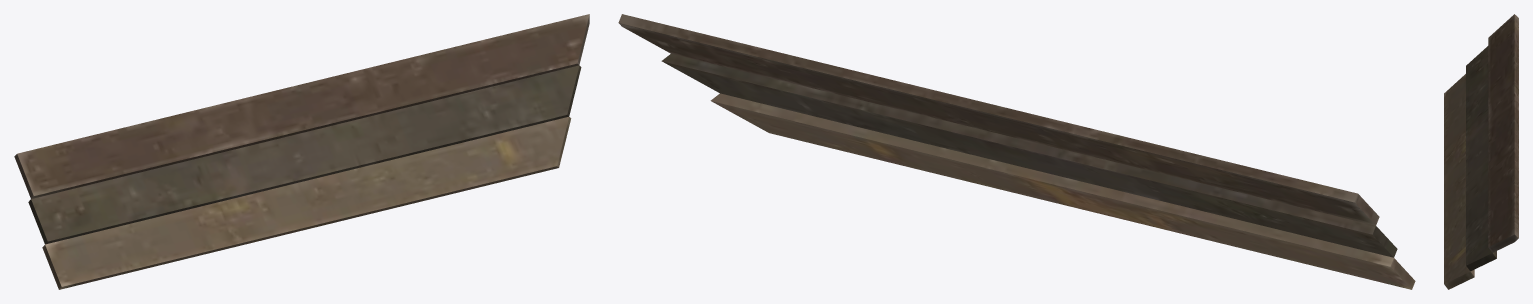
Rendered from roof.frontier.corner.90.concave.r.top.line.glb.
3 renders of one model, left to right at view 1: azimuth 30°, elevation 25°; view 2: azimuth 150°, elevation 25°; view 3: azimuth 270°, elevation 25°, orthographic. The views are drawn at different scales.
Parts seen in each view (by area): view 1: model; view 2: model; view 3: model.
Part boxes in pixels (<box>): model: <box>14,14,589,289</box>; model: <box>618,14,1415,289</box>; model: <box>1444,14,1518,289</box>.
Bounding box in the file's own units: 3 × 0.5288 × 0.4298.
Materials: 1 (1 with a texture image).
